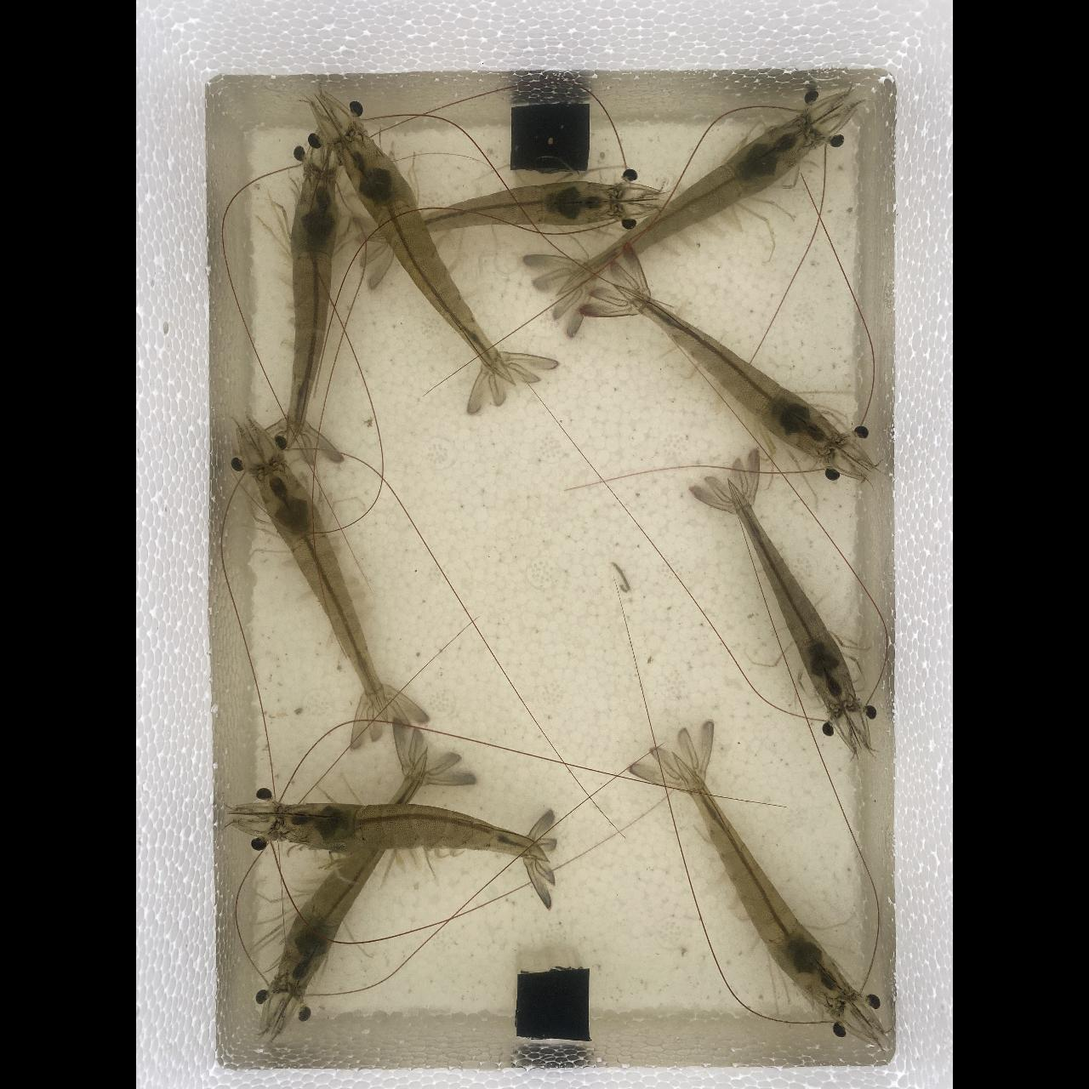box: (510, 102, 590, 170), (516, 968, 590, 1040)
top_shrimp: (674, 755, 847, 1006), (565, 119, 812, 288), (339, 140, 509, 383), (273, 748, 427, 996), (633, 293, 835, 451), (259, 465, 386, 711), (728, 483, 854, 710), (370, 179, 618, 241), (279, 802, 551, 858), (291, 170, 337, 444)
